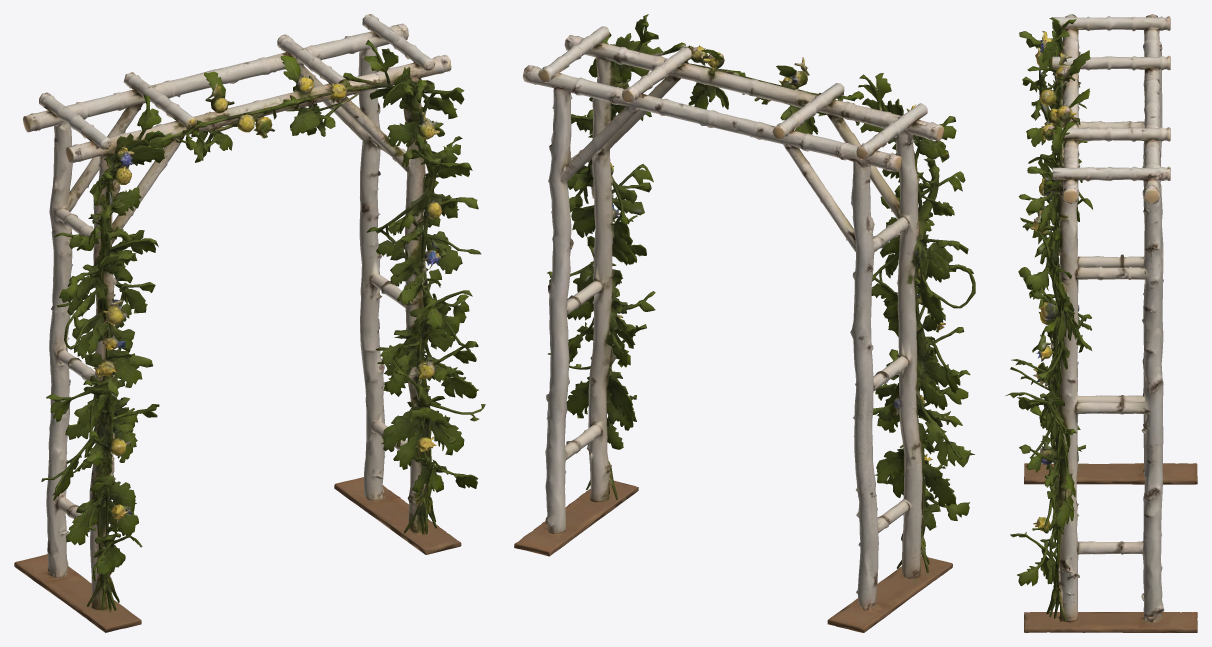
The model's file is arch.glb.
3 views of the same model, side by side, from view 1: azimuth 30°, elevation 25°; view 2: azimuth 150°, elevation 25°; view 3: azimuth 270°, elevation 25° (orthographic). The views are drawn at different scales.
Visible parts, largest first — view 1: tripo_node_dcf765cd-c3c3-4b91-8fd1-20ab12d0a2a7; view 2: tripo_node_dcf765cd-c3c3-4b91-8fd1-20ab12d0a2a7; view 3: tripo_node_dcf765cd-c3c3-4b91-8fd1-20ab12d0a2a7.
Part boxes in pixels (x1,y1,x2,y2): tripo_node_dcf765cd-c3c3-4b91-8fd1-20ab12d0a2a7: (14,14,485,632); tripo_node_dcf765cd-c3c3-4b91-8fd1-20ab12d0a2a7: (514,14,975,632); tripo_node_dcf765cd-c3c3-4b91-8fd1-20ab12d0a2a7: (1005,14,1197,632).
Bounding box in the file's own units: 0.8962 × 1 × 0.3658.
Materials: 1 (1 with a texture image).
